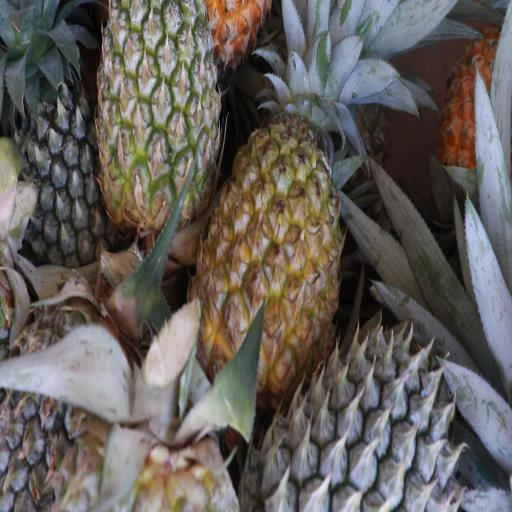------------------------------: (100, 2, 220, 228)
Pineapple - v8 v1: (202, 122, 343, 376), (439, 38, 512, 190)
